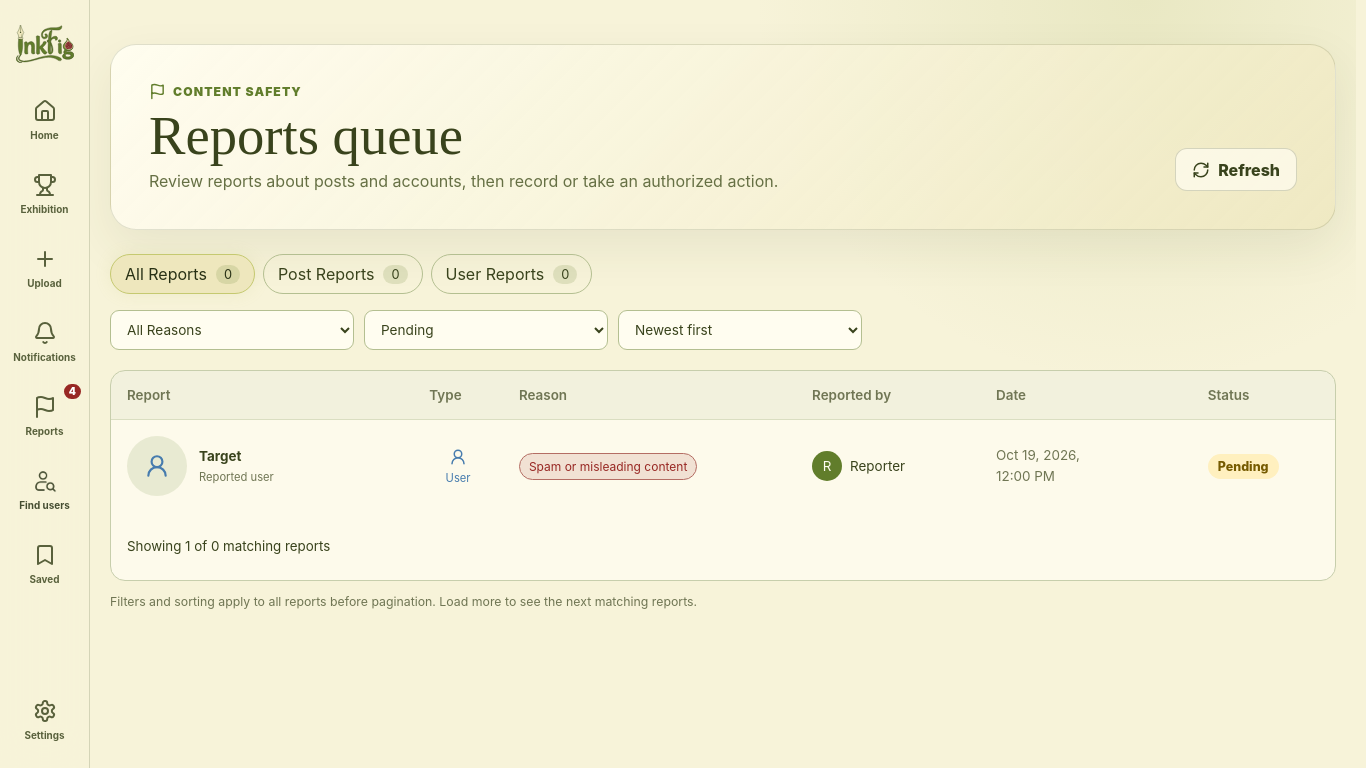
opens report details in a native popup without shrinking/reloading the table and restores focus
Click the button with class "moderation-target": click(220, 466) [127,436,312,496]
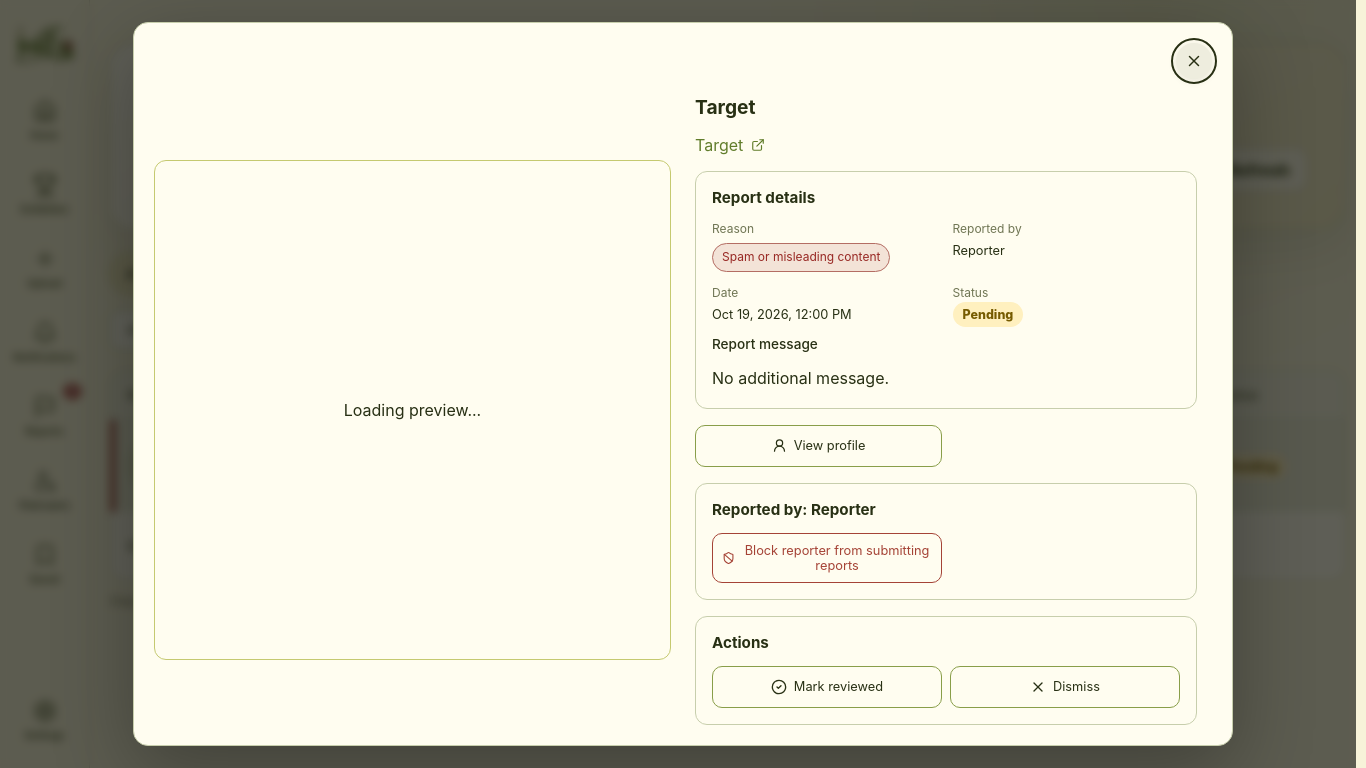
Click the button named "Close report details": click(1194, 61) [1176,43,1212,79]
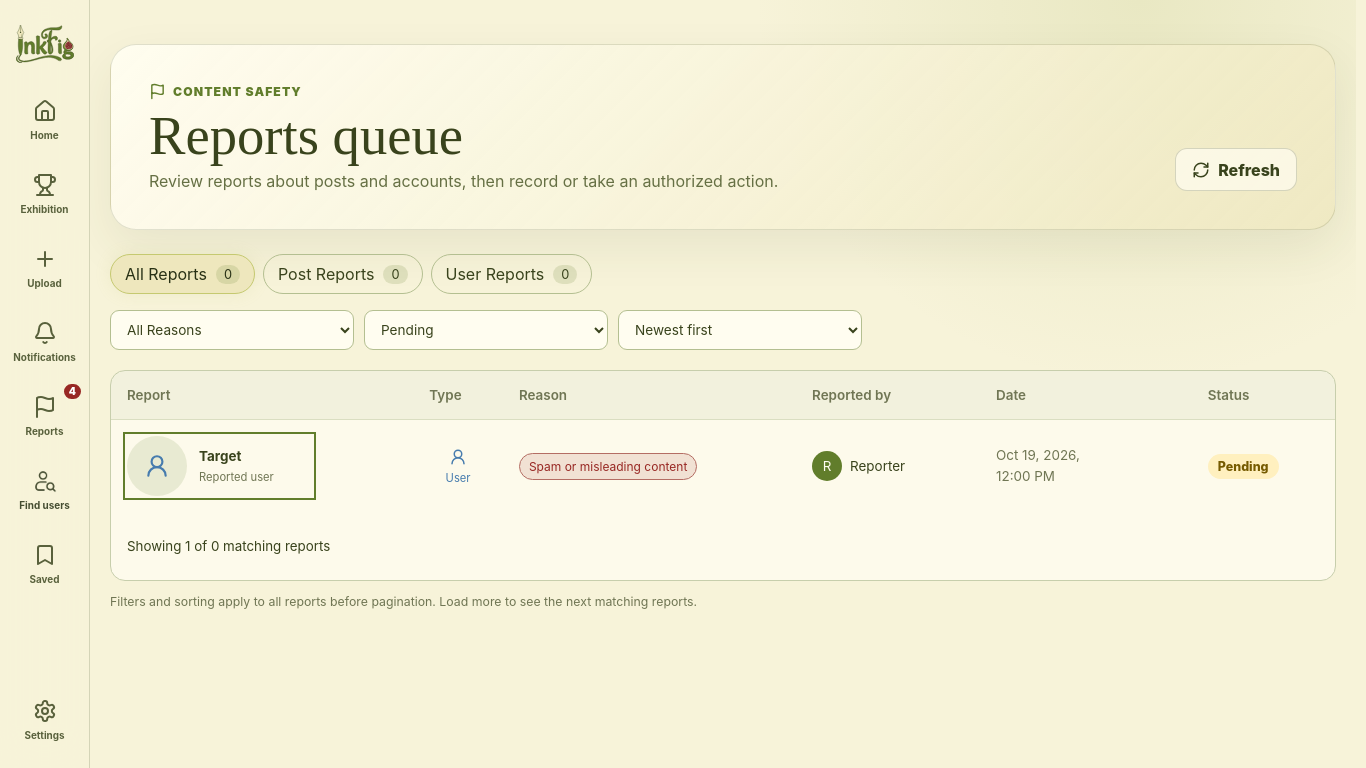
Now the dialog is gone
